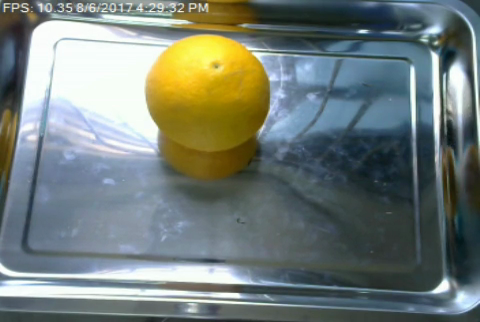Orange: (144, 33, 270, 151)
